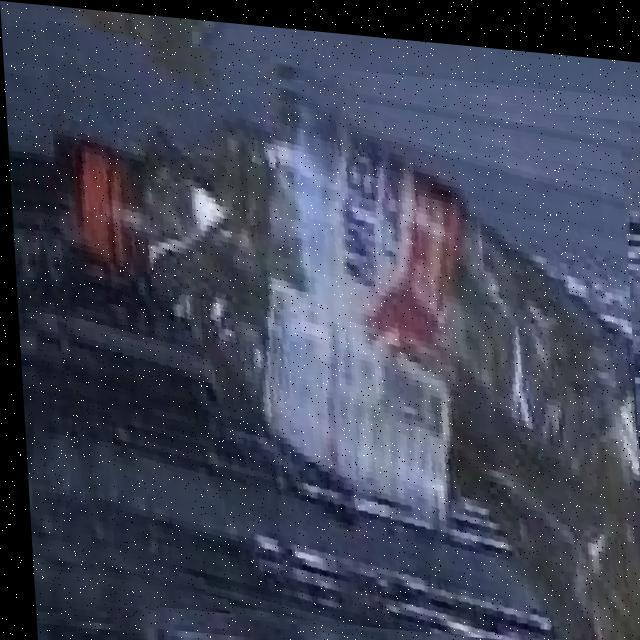litter: (9, 28, 640, 640)
